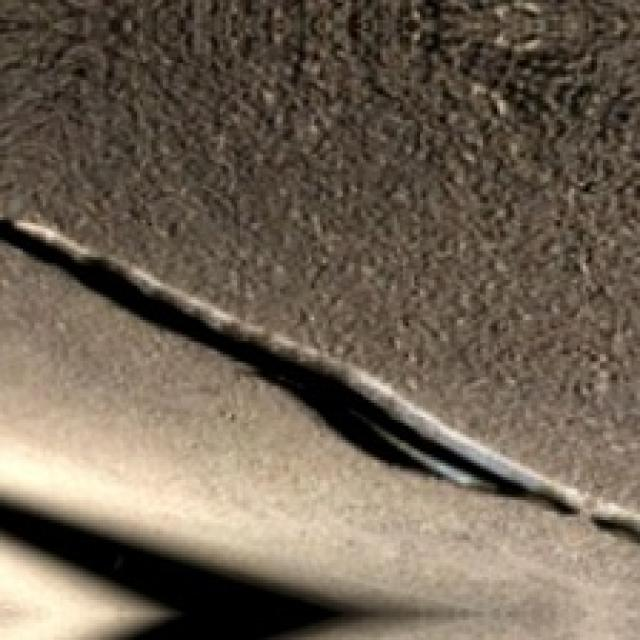reticulated python: (0, 217, 637, 540)
